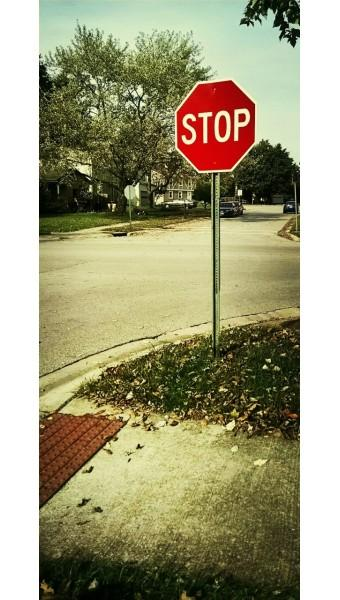Pole: (210, 173, 219, 356)
Sign: (174, 79, 262, 174)
